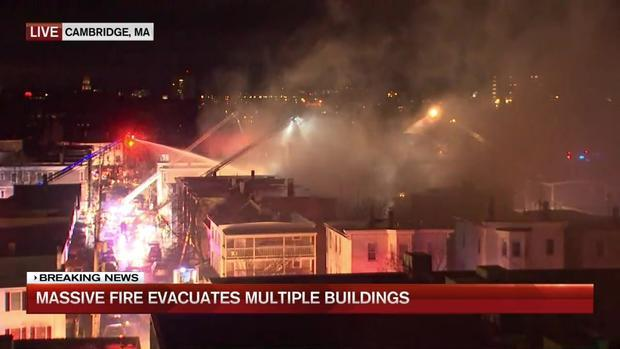smoke: (321, 27, 620, 184)
